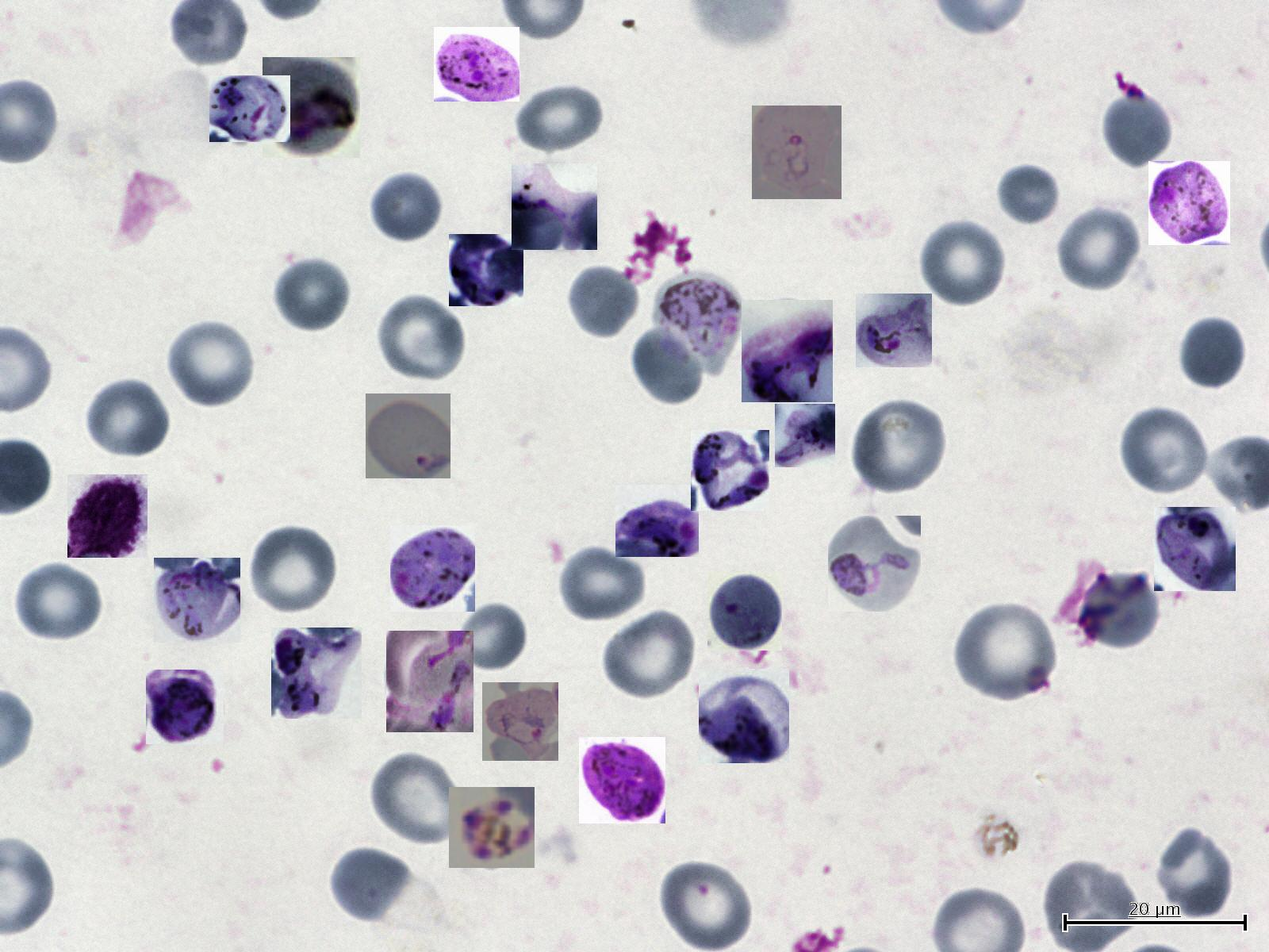Infected: (263, 57, 360, 158), (742, 300, 833, 402), (652, 272, 742, 374), (828, 516, 921, 612), (386, 631, 473, 732), (699, 669, 789, 763), (752, 106, 842, 199), (271, 628, 362, 719), (579, 737, 665, 823), (390, 525, 475, 612), (512, 163, 597, 250), (154, 558, 240, 643), (366, 393, 450, 478), (449, 787, 535, 868), (1148, 161, 1230, 245), (1154, 507, 1236, 591), (67, 474, 148, 558), (434, 27, 519, 102), (691, 430, 769, 511), (615, 485, 699, 557), (482, 682, 558, 761), (707, 572, 782, 651), (146, 670, 224, 744), (856, 294, 932, 367), (209, 75, 290, 142), (449, 234, 523, 306), (775, 404, 835, 467)
Uninfected: (954, 601, 1056, 702), (850, 397, 946, 496), (657, 856, 754, 951), (602, 608, 696, 701), (1118, 404, 1211, 497), (166, 317, 258, 410), (370, 752, 458, 849), (375, 293, 466, 385), (247, 524, 337, 616), (918, 218, 1007, 309), (1152, 826, 1236, 922), (1056, 204, 1142, 292), (84, 377, 173, 461), (13, 560, 103, 643), (557, 545, 647, 624), (514, 84, 607, 158), (328, 843, 412, 923), (1173, 313, 1250, 393), (1077, 571, 1158, 647), (272, 255, 351, 332), (366, 169, 443, 247), (1102, 90, 1178, 166), (632, 325, 699, 401), (570, 267, 638, 338), (460, 604, 527, 673), (995, 165, 1059, 225)
